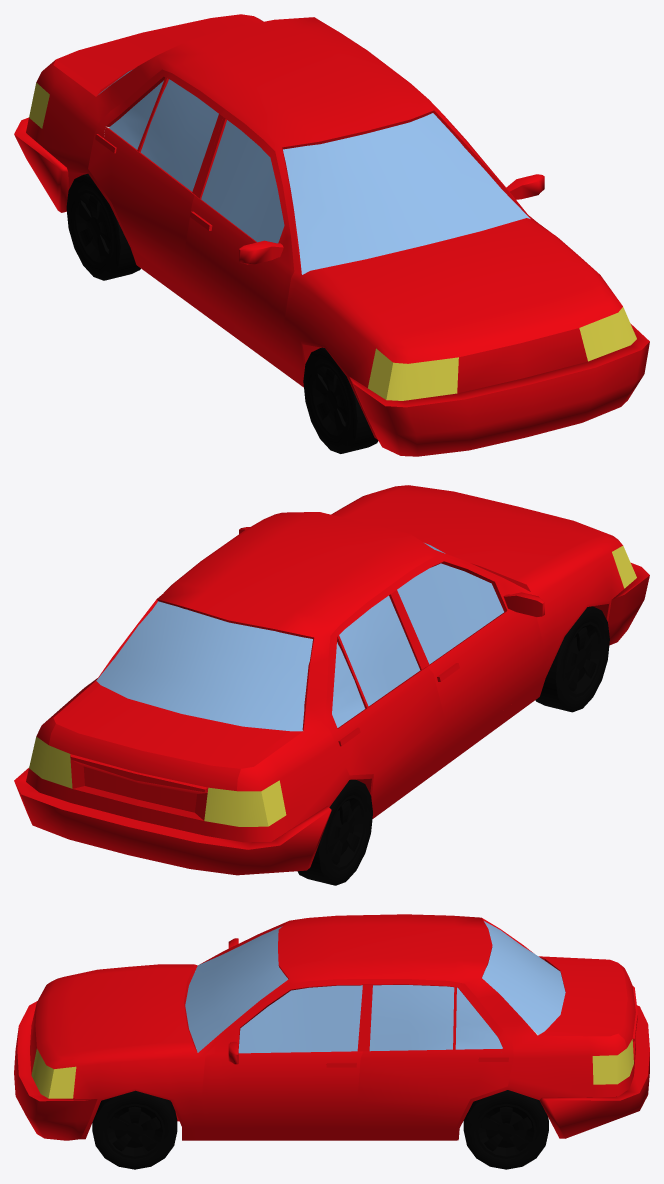
File: car1.glb
3 views of the same model, one above another, from view 1: azimuth 30°, elevation 25°; view 2: azimuth 150°, elevation 25°; view 3: azimuth 270°, elevation 25° (orthographic). The views are drawn at different scales.
Visible parts, largest first — view 1: Cube.022, window, window.002, window.001, wheel.003, wheel.002; view 2: Cube.022, window, window.002, window.001, wheel.003, wheel.002; view 3: Cube.022, window, window.002, window.001, wheel.001, wheel.
Boxes of the visible parts, x1,y1,x2,y2 form: Cube.022: (14, 14, 649, 456); window: (98, 70, 530, 274); window.002: (109, 79, 218, 191); window.001: (201, 120, 284, 243); wheel.003: (303, 347, 378, 453); wheel.002: (66, 173, 140, 280); Cube.022: (14, 485, 649, 875); window: (96, 543, 445, 731); window.002: (332, 595, 420, 727); window.001: (397, 563, 503, 664); wheel.003: (535, 606, 609, 712); wheel.002: (297, 779, 372, 885); Cube.022: (14, 914, 649, 1140); window: (185, 921, 565, 1052); window.002: (369, 985, 502, 1051); window.001: (238, 985, 362, 1053); wheel.001: (92, 1090, 177, 1169); wheel: (463, 1090, 548, 1169).
Bounding box in the file's own units: 1.92 × 1.38 × 4.43.
